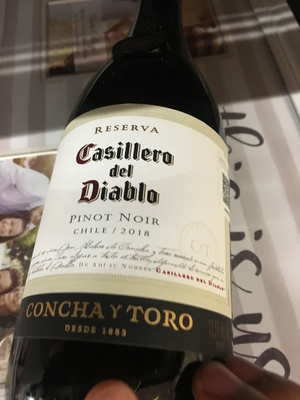casillero del diablo pinot noir: (24, 33, 231, 400)
